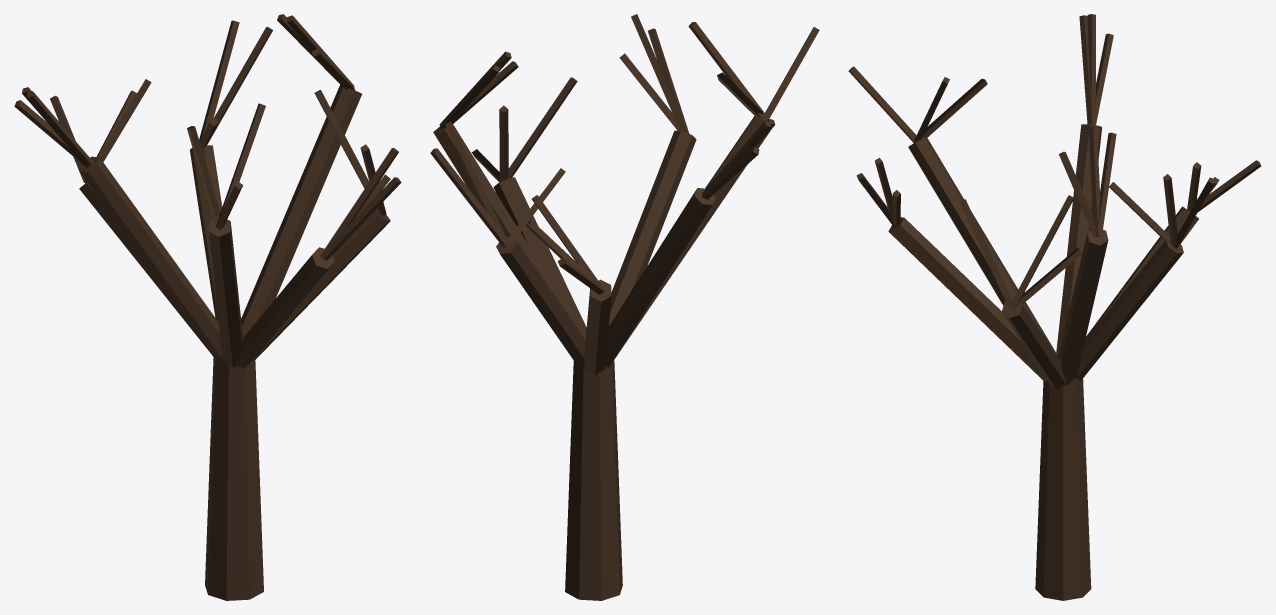
The model's file is landscape.tree.winter_small.glb.
3 views of the same model, side by side, from view 1: azimuth 30°, elevation 25°; view 2: azimuth 150°, elevation 25°; view 3: azimuth 270°, elevation 25° (orthographic). The views are drawn at different scales.
Parts seen in each view (by area): view 1: main__bark; view 2: main__bark; view 3: main__bark.
Boxes of the visible parts, <box> form: main__bark: <box>14,14,401,600</box>; main__bark: <box>430,14,819,600</box>; main__bark: <box>848,14,1261,600</box>.
Size of the model in its own units: 2.64 by 4.01 by 3.03.
